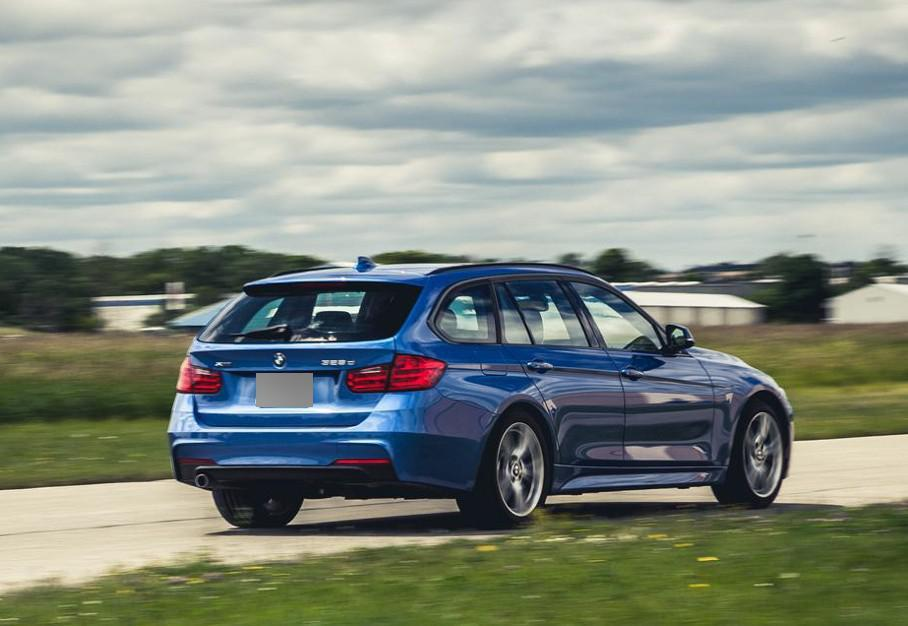Wagon: (167, 263, 794, 530)
